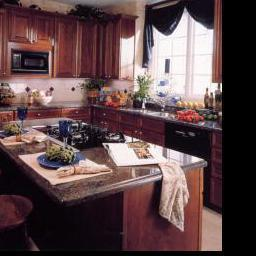Electrodomestico: (30, 122, 128, 146)
